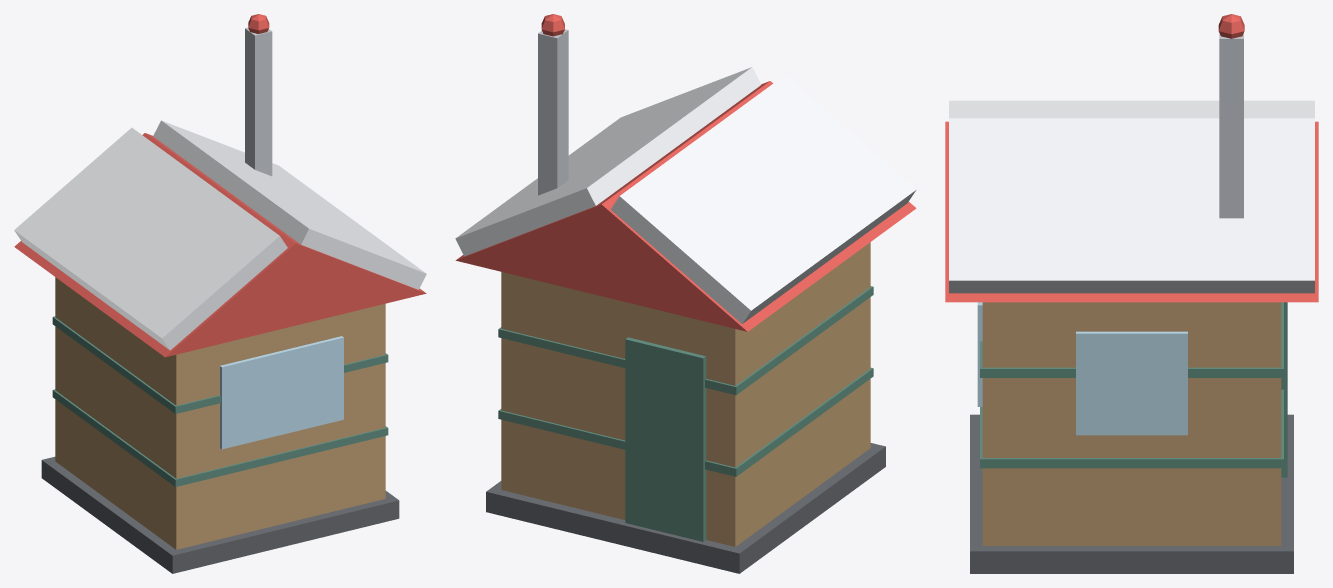
Rendered from ski-resort-and-snow-park-lift-operator-hut-8e76e49a__25962.glb.
3 views of the same model, side by side, from view 1: azimuth 30°, elevation 25°; view 2: azimuth 150°, elevation 25°; view 3: azimuth 270°, elevation 25° (orthographic). The views are drawn at different scales.
Parts seen in each view (by area): view 1: lift-operator-hut; view 2: lift-operator-hut; view 3: lift-operator-hut.
Part boxes in pixels (x1,y1,x2,y2): lift-operator-hut: [14, 14, 426, 573]; lift-operator-hut: [455, 14, 916, 573]; lift-operator-hut: [945, 14, 1318, 573].
Bounding box in the file's own units: 3.04 × 4.77 × 3.
